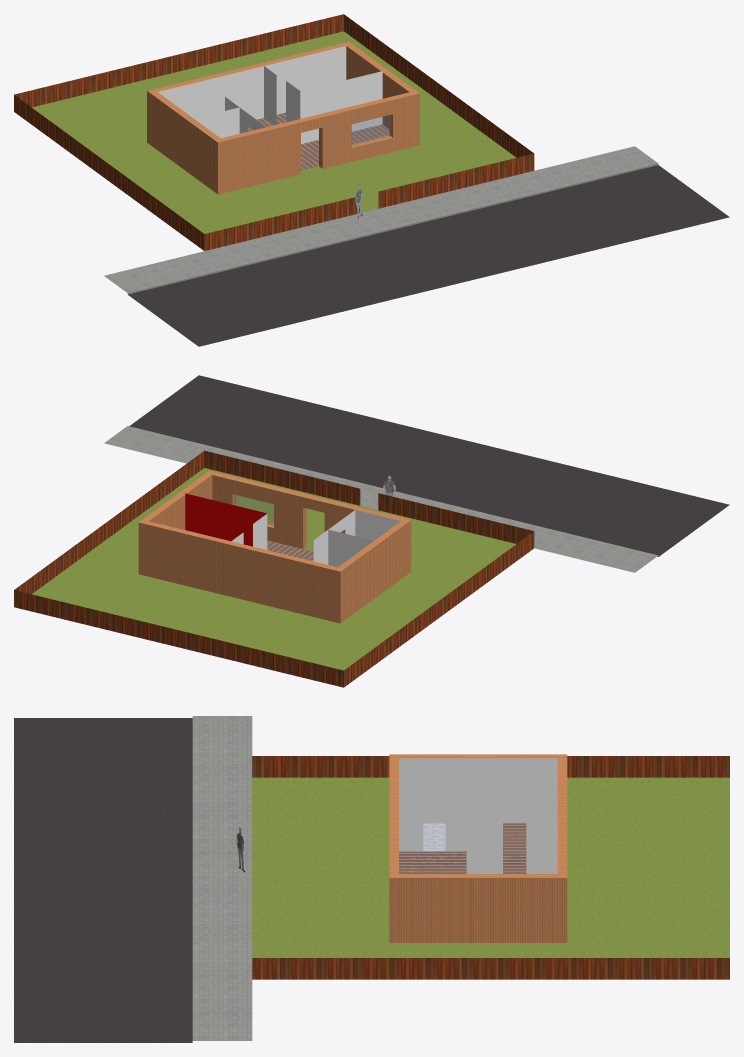
The model's file is GruppeC.glb.
3 renders of one model, top to bottom at view 1: azimuth 30°, elevation 25°; view 2: azimuth 150°, elevation 25°; view 3: azimuth 270°, elevation 25°, orthographic. The views are drawn at different scales.
Parts seen in each view (by area): view 1: ID465, ID559, SketchUp, ID491, ID452, ID504, ID512, ID478, ID538, ID580, ID526; view 2: ID465, ID559, ID491, SketchUp, ID452, ID512, ID538, ID504, ID532; view 3: ID465, ID559, ID452, SketchUp, ID491, ID504, ID532, ID478, ID520, ID526, ID546.
Part boxes in pixels (x1,y1,x2,y2): ID465: [128, 165, 729, 346]; ID559: [32, 31, 516, 233]; SketchUp: [14, 14, 534, 250]; ID491: [147, 41, 419, 194]; ID452: [104, 146, 658, 294]; ID504: [158, 46, 346, 119]; ID512: [300, 71, 382, 143]; ID478: [248, 112, 389, 170]; ID538: [194, 107, 239, 138]; ID580: [352, 115, 390, 145]; ID526: [264, 66, 276, 125]; ID465: [129, 375, 729, 556]; ID559: [32, 468, 516, 670]; ID491: [138, 470, 411, 623]; SketchUp: [14, 450, 534, 687]; ID452: [104, 426, 658, 572]; ID512: [185, 493, 266, 546]; ID538: [328, 529, 373, 567]; ID504: [355, 510, 400, 540]; ID532: [313, 510, 355, 564]; ID465: [14, 718, 192, 1042]; ID559: [252, 777, 729, 957]; ID452: [192, 716, 252, 1040]; SketchUp: [252, 756, 729, 979]; ID491: [389, 754, 567, 942]; ID504: [399, 758, 557, 823]; ID532: [399, 786, 502, 851]; ID478: [399, 823, 526, 873]; ID520: [466, 822, 502, 873]; ID526: [526, 823, 557, 873]; ID546: [423, 823, 445, 851].
Size of the model in its own units: 32.2 by 3.17 by 29.98.
Materials: 84 (8 with a texture image).
